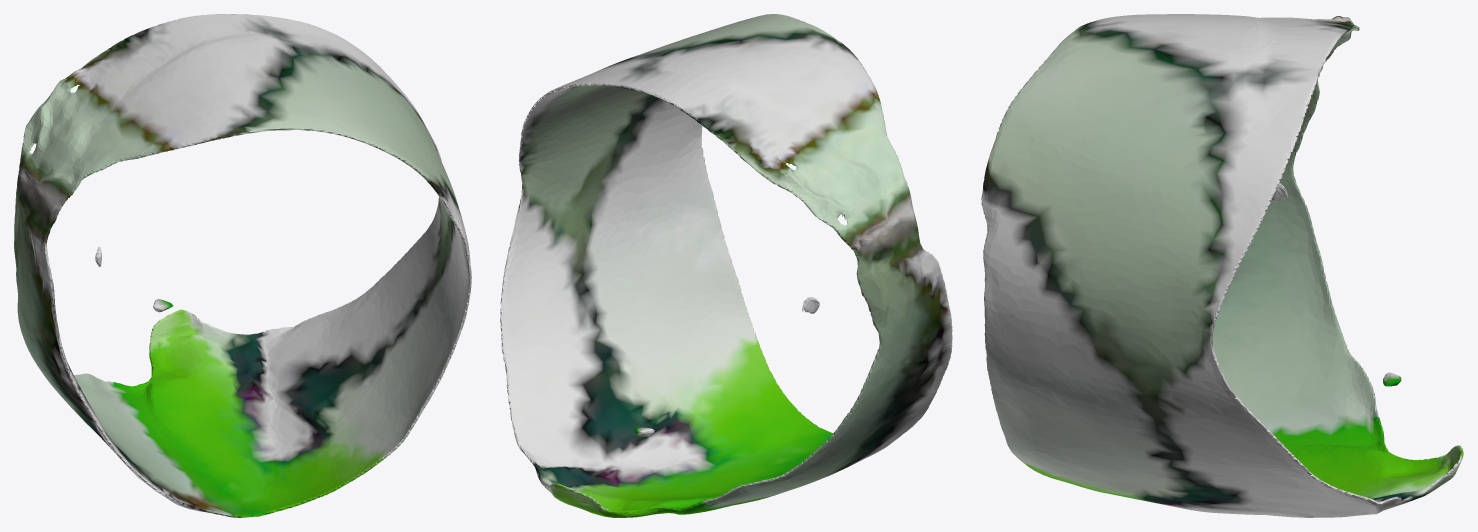
Rendered from ring_acid.glb.
The picture shows the model from 3 angles, left to right: view 1: azimuth 30°, elevation 25°; view 2: azimuth 150°, elevation 25°; view 3: azimuth 270°, elevation 25°; orthographic projection. The views are drawn at different scales.
Visible parts, largest first — view 1: geometry_0; view 2: geometry_0; view 3: geometry_0.
Boxes of the visible parts, bbox=[...] form: geometry_0: bbox=[14, 14, 471, 517]; geometry_0: bbox=[500, 14, 952, 517]; geometry_0: bbox=[981, 14, 1463, 517].
Size of the model in its own units: 0.5938 by 0.5794 by 0.5519.
